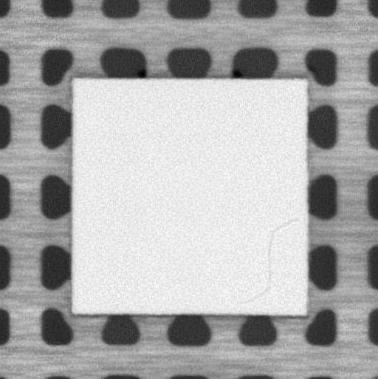DIE_CRACK: (237, 216, 300, 306)
